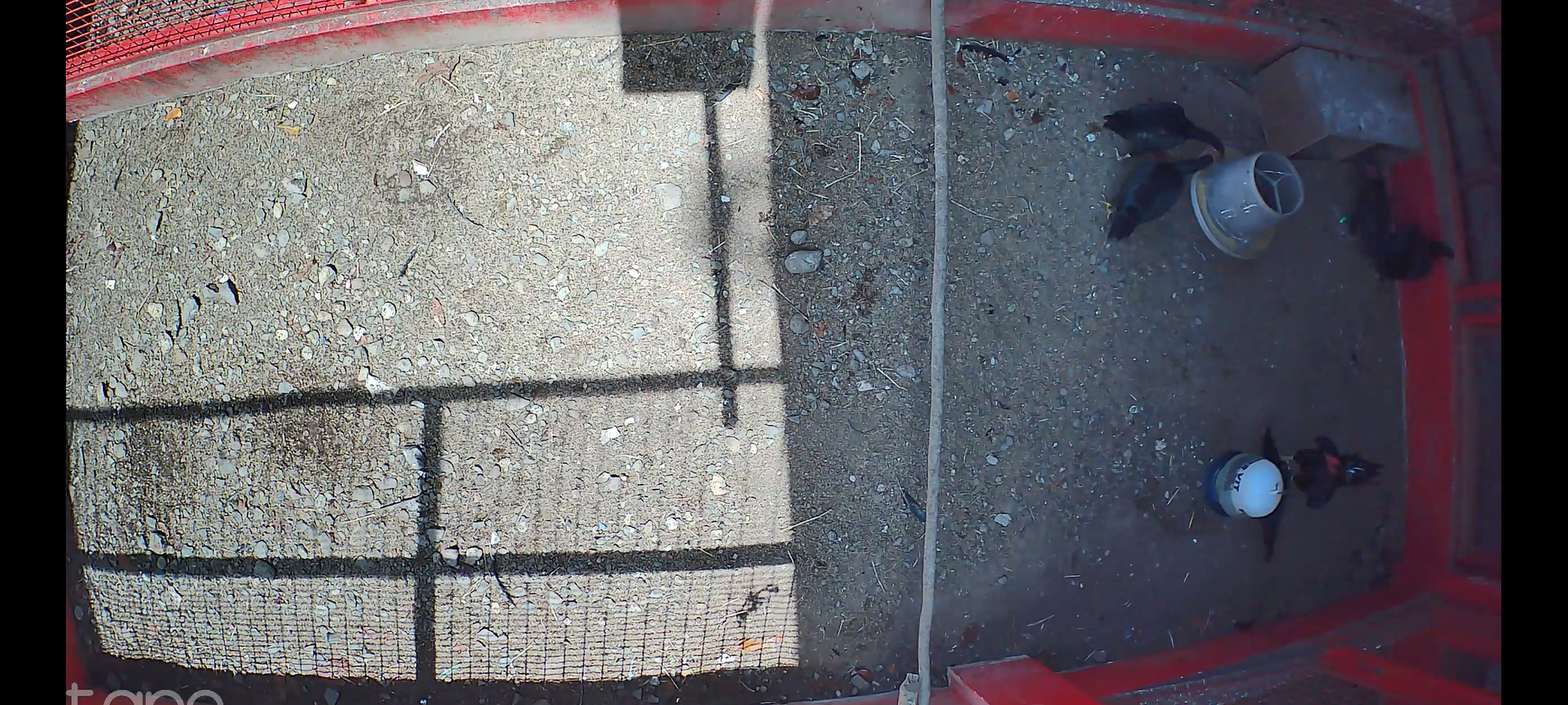Chicken: (1092, 153, 1217, 246), (1095, 101, 1230, 162), (1333, 145, 1388, 263), (1355, 225, 1465, 282), (1255, 423, 1289, 565)
Drinker: (1204, 449, 1287, 523)
Feeder: (1190, 142, 1304, 268)
Leg_Band_Green: (1338, 214, 1348, 223)
Leg_Band_Yellow: (1099, 198, 1113, 213)
Rooster: (1278, 434, 1388, 517)
